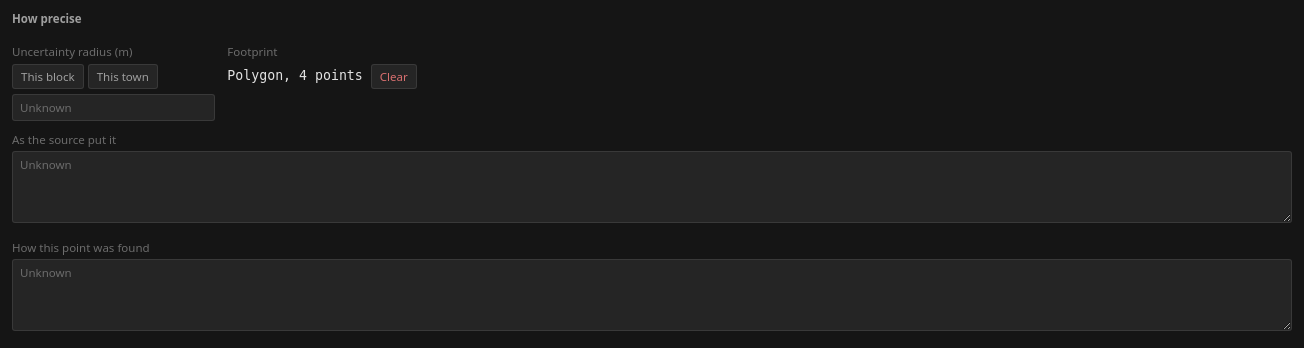
Test: the footprint › goes away again when it is cleared
Click the button "Clear" at (394, 76), box [371,64,417,89]
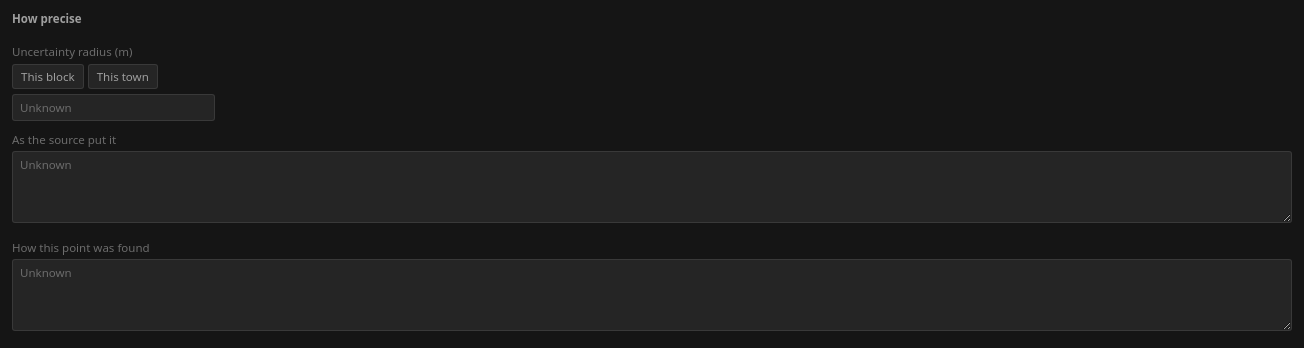
Expected: the text "Footprint" is gone
